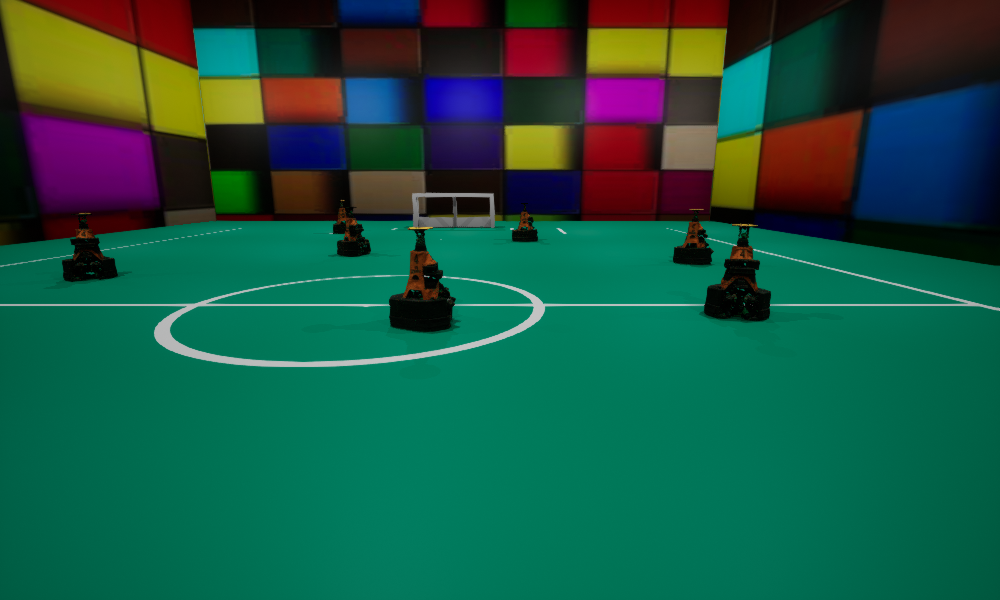0 orange robot TechUnited: (389, 227, 455, 331), (704, 224, 770, 319), (62, 213, 117, 281), (673, 209, 713, 264), (337, 207, 370, 256), (512, 203, 537, 241), (333, 200, 354, 233)
